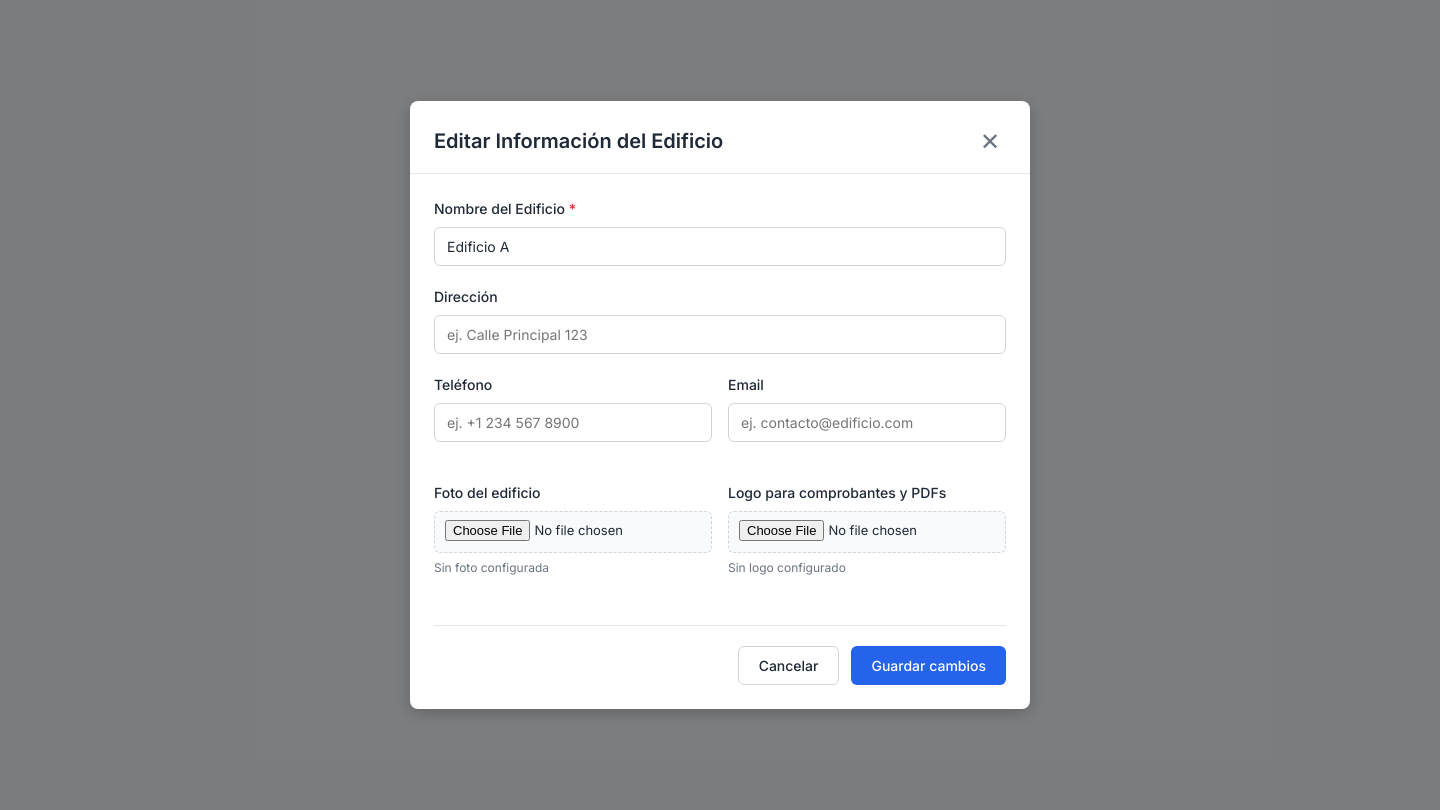
Scenario: BuildingInfoModal › muestra el botón de guardar como deshabilitado mientras se guarda
Type "X" into the field showing "Edificio A" at x=720, y=246, box top-left (434, 227), bottom-right (1006, 266)
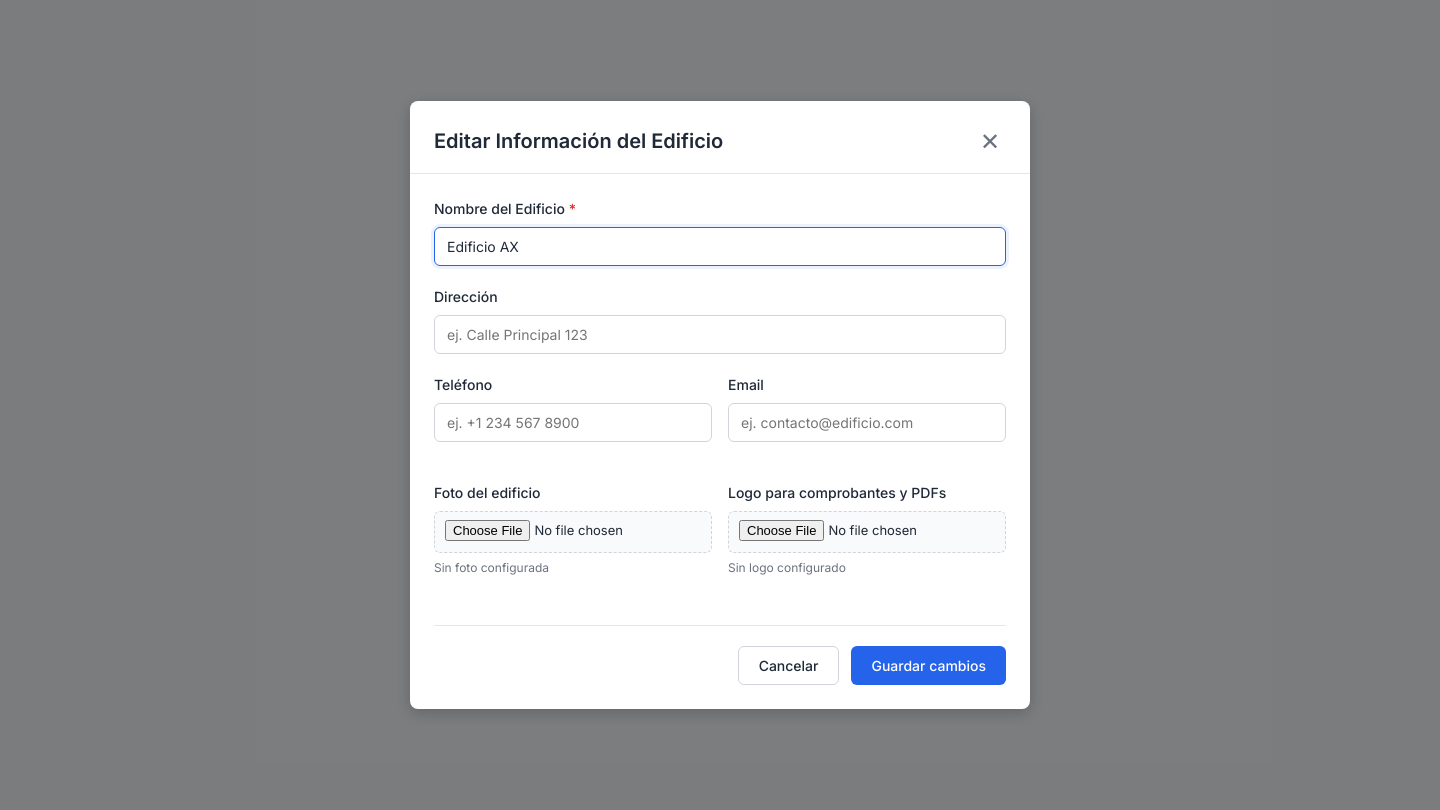
Click the button "Guardar cambios" at x=929, y=666, box top-left (852, 646), bottom-right (1006, 685)
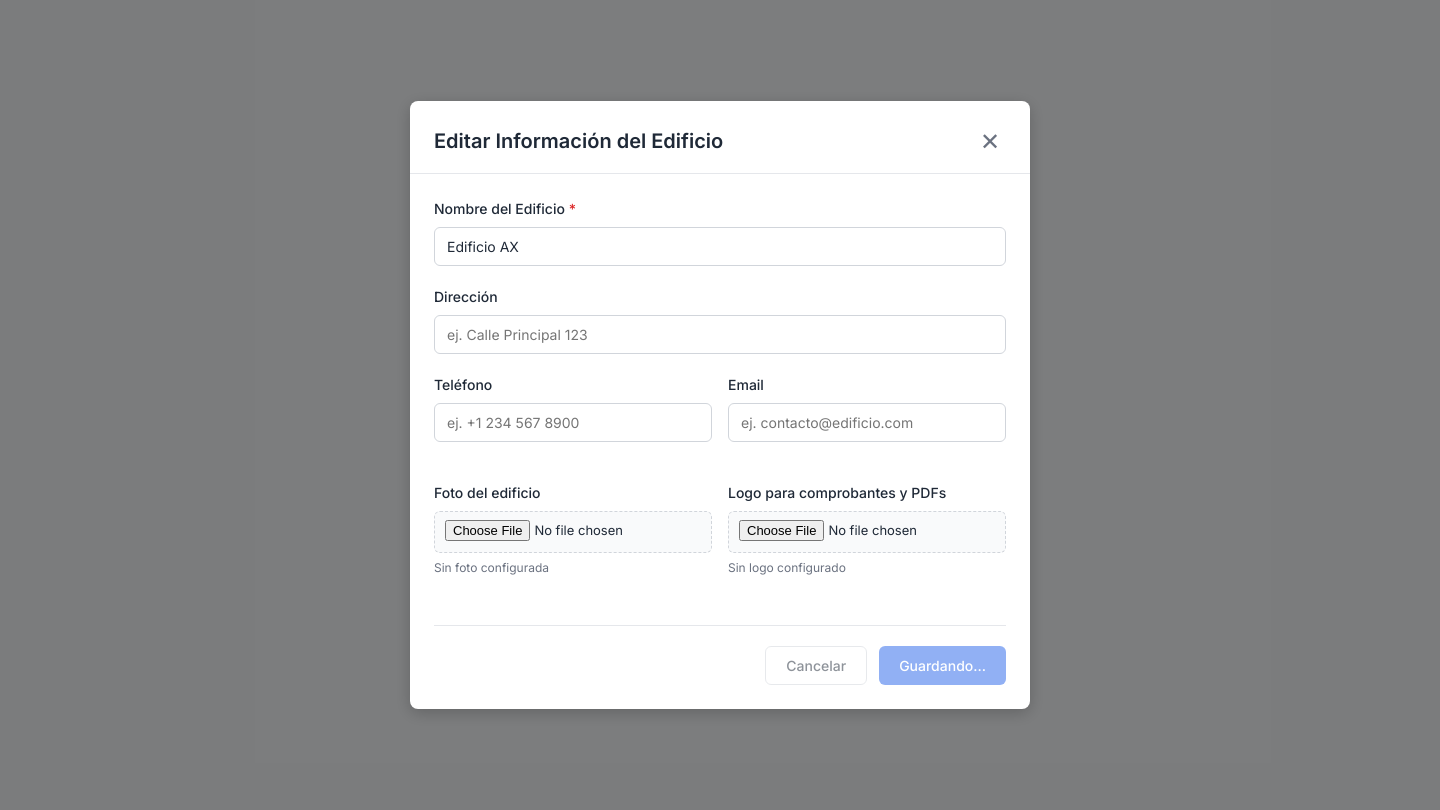
Result: the button named "Guardar cambios" is disabled at top-left (879, 646), bottom-right (1006, 685)
